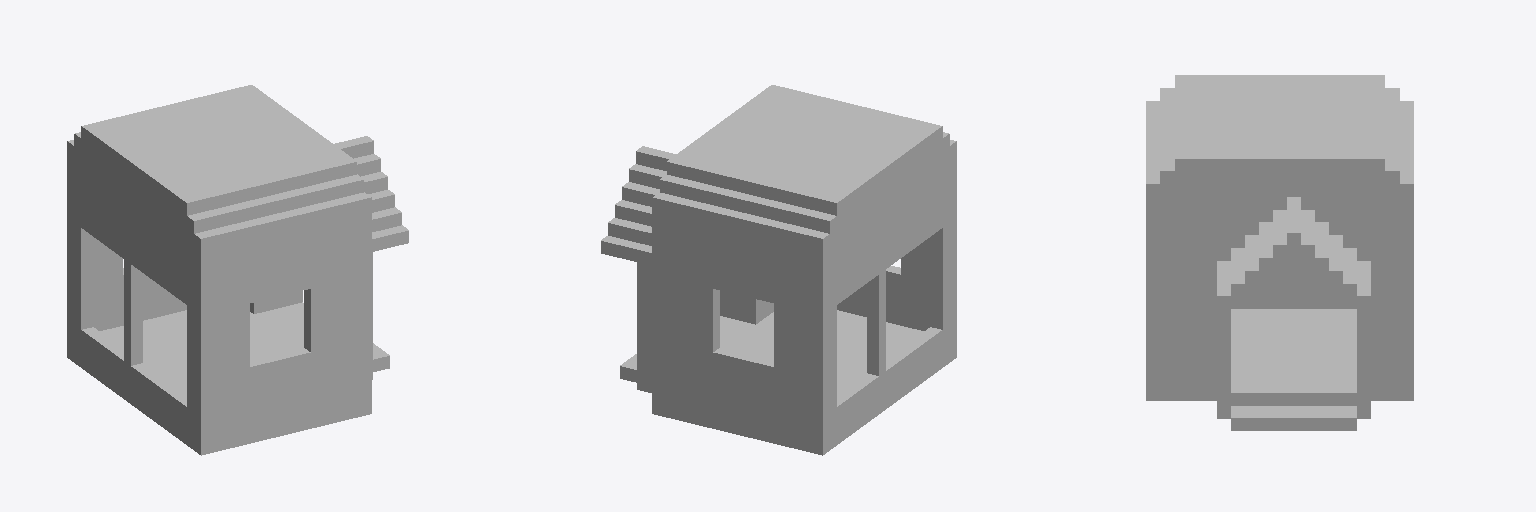
The model's file is maison.obj.
The picture shows the model from 3 angles: view 1: azimuth 30°, elevation 25°; view 2: azimuth 150°, elevation 25°; view 3: azimuth 270°, elevation 25°; orthographic projection.
Visible parts, largest first — view 1: object 1; view 2: object 1; view 3: object 1.
Boxes of the visible parts, x1=… form: object 1: x1=67, y1=85, x2=408, y2=455; object 1: x1=601, y1=85, x2=956, y2=455; object 1: x1=1146, y1=75, x2=1413, y2=430.
Bounding box in the file's own units: 2 × 1.9 × 1.9.